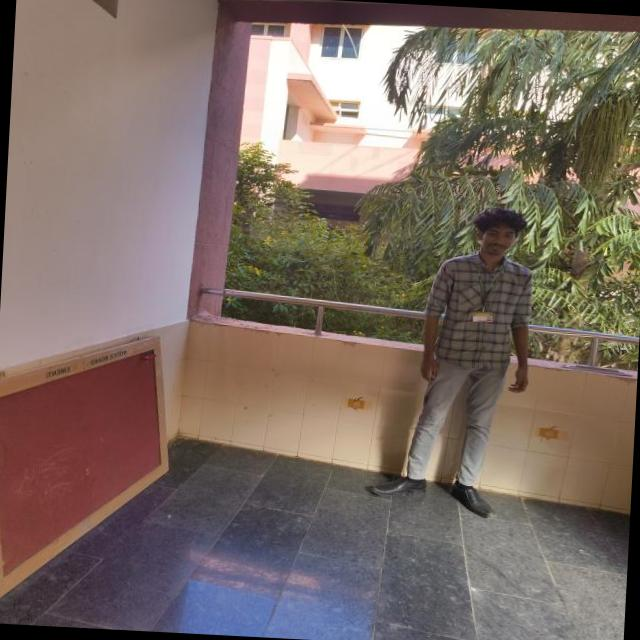id_card: (468, 269, 509, 330)
